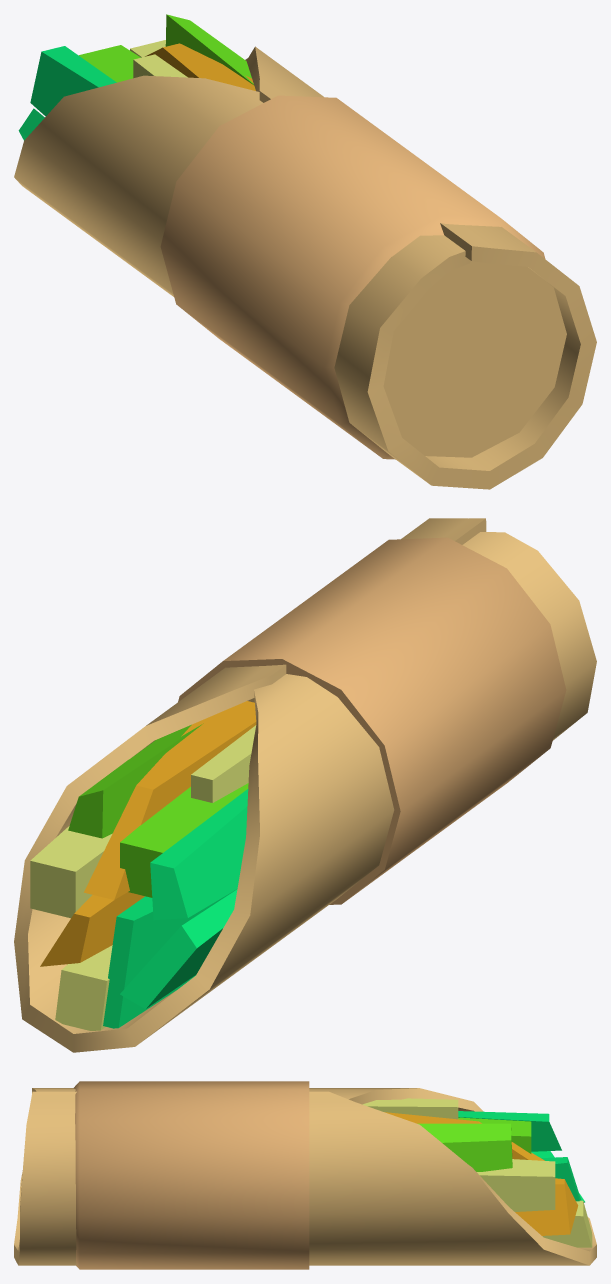
File: Shawarma-1.fbx
The picture shows the model from 3 angles, top to bottom: view 1: azimuth 30°, elevation 25°; view 2: azimuth 150°, elevation 25°; view 3: azimuth 270°, elevation 25°; orthographic projection. The views are drawn at different scales.
Parts seen in each view (by area): view 1: Cylinder; view 2: Cylinder; view 3: Cylinder.
Boxes of the visible parts, <box> form: Cylinder: <box>14,14,596,489</box>; Cylinder: <box>14,518,596,1052</box>; Cylinder: <box>14,1081,596,1269</box>.
Size of the model in its own units: 42.88 by 42.88 by 132.
